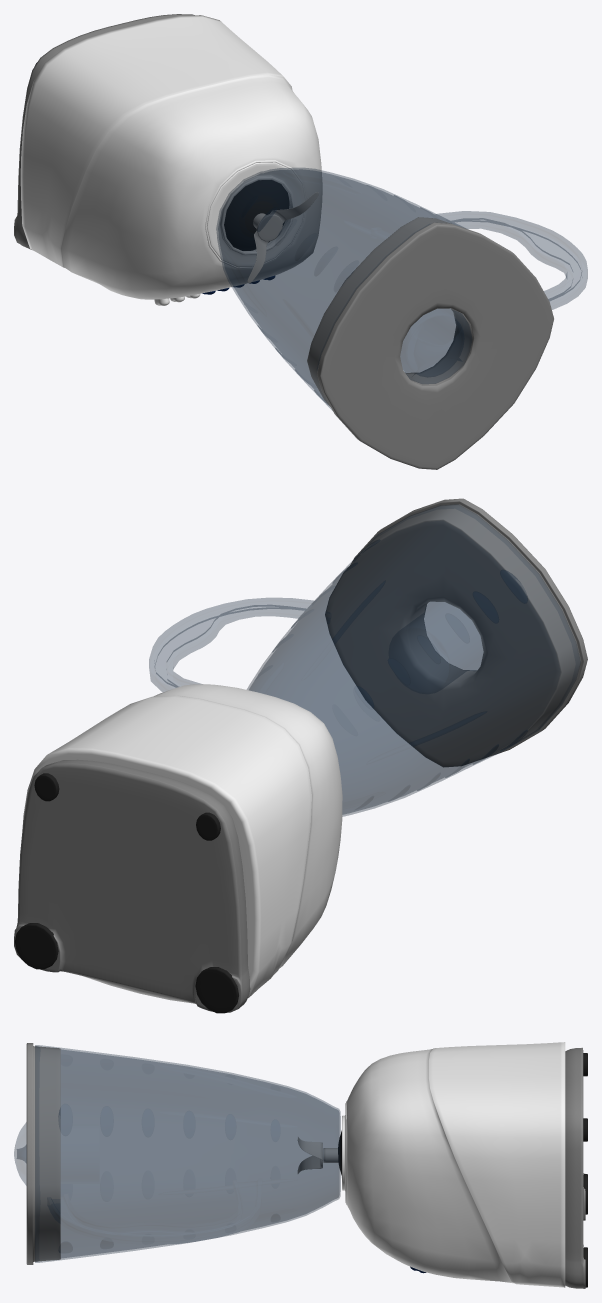
Rendered from blender.obj.
The picture shows the model from 3 angles, top to bottom: view 1: azimuth 30°, elevation 25°; view 2: azimuth 150°, elevation 25°; view 3: azimuth 270°, elevation 25°; orthographic projection. The views are drawn at different scales.
Visible parts, largest first — view 1: kitchen_blender_base, kitchen_blender_cover, kitchen_blender_cup, kitchen_blender_plastic, kitchen_blender_blade, kitchen_blender_marks; view 2: kitchen_blender_cover, kitchen_blender_cup, kitchen_blender_base, kitchen_blender_plastic, kitchen_blender_marks; view 3: kitchen_blender_cup, kitchen_blender_base, kitchen_blender_cover, kitchen_blender_marks, kitchen_blender_blade, kitchen_blender_plastic.
Boxes of the visible parts, <box> form: kitchen_blender_base: <box>20,15,322,305</box>; kitchen_blender_cover: <box>14,14,553,469</box>; kitchen_blender_cup: <box>216,168,587,410</box>; kitchen_blender_plastic: <box>35,62,288,250</box>; kitchen_blender_blade: <box>247,192,318,283</box>; kitchen_blender_marks: <box>241,181,457,404</box>; kitchen_blender_cover: <box>14,498,587,1012</box>; kitchen_blender_cup: <box>149,504,580,816</box>; kitchen_blender_base: <box>22,684,342,1003</box>; kitchen_blender_plastic: <box>15,773,238,1013</box>; kitchen_blender_marks: <box>255,539,527,809</box>; kitchen_blender_cup: <box>14,1045,340,1262</box>; kitchen_blender_base: <box>342,1042,565,1287</box>; kitchen_blender_cover: <box>26,1043,585,1288</box>; kitchen_blender_marks: <box>58,1068,280,1253</box>; kitchen_blender_blade: <box>297,1137,338,1173</box>; kitchen_blender_plastic: <box>338,1053,587,1287</box>.
Size of the model in its own units: 29 by 21.2 by 50.98.
